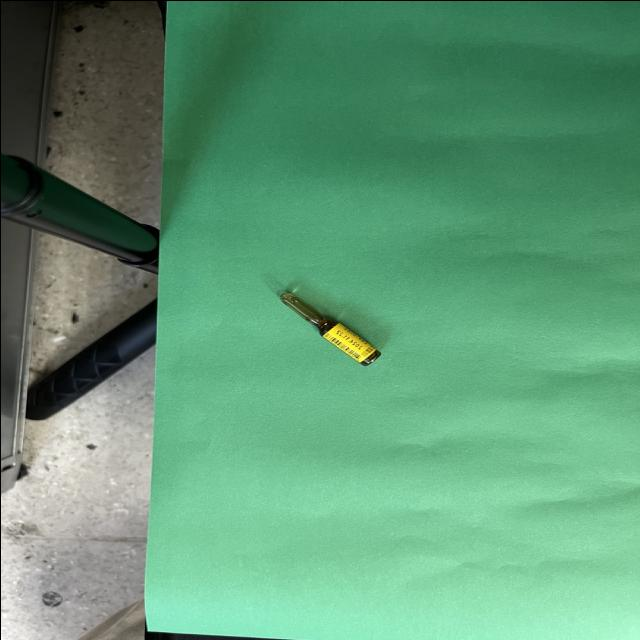Ampoules: (279, 291, 381, 365)
